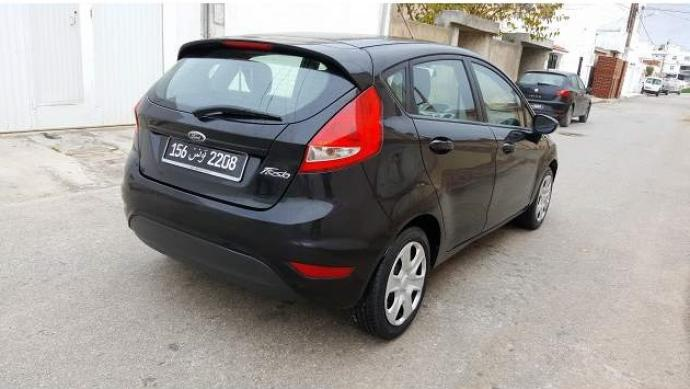LP: (160, 133, 252, 184)
